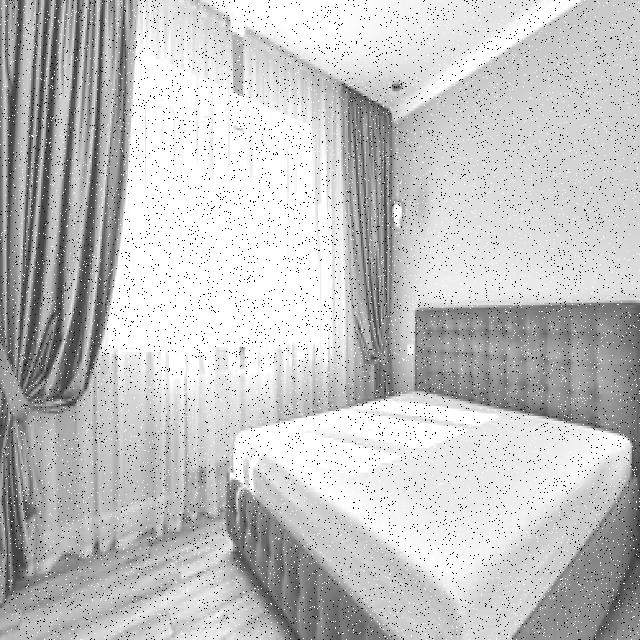bed: (239, 303, 640, 625)
